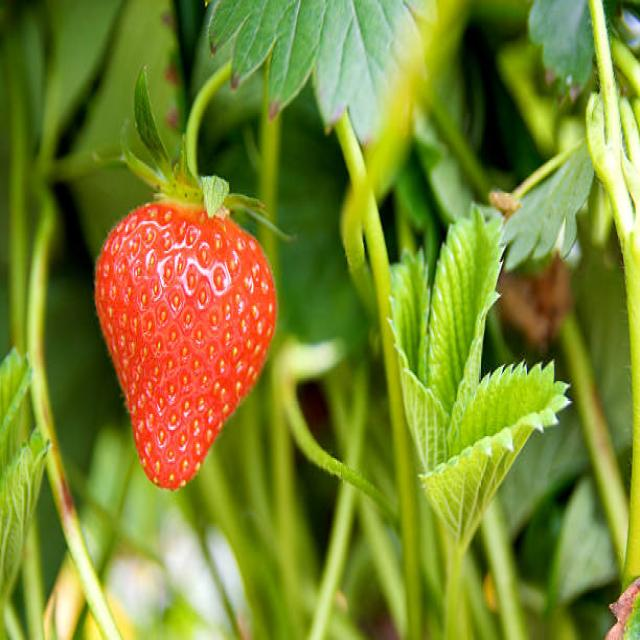Healthy Fruit: (95, 200, 277, 490)
